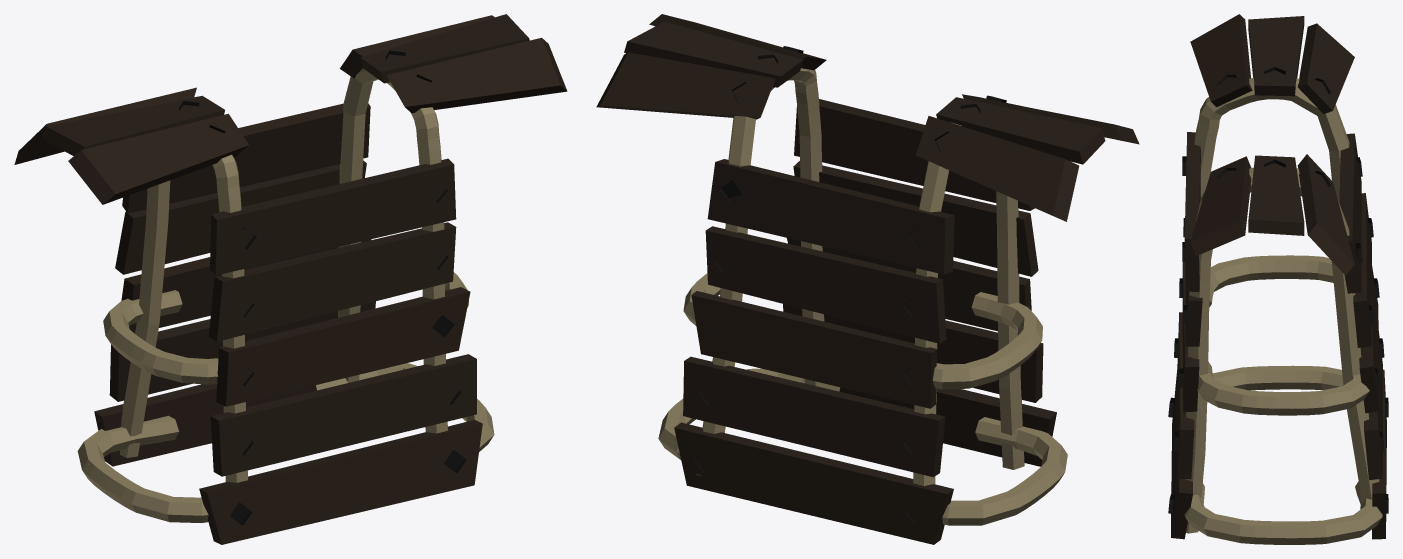
The model's file is WoodenArmor.fbx.
3 renders of one model, left to right at view 1: azimuth 30°, elevation 25°; view 2: azimuth 150°, elevation 25°; view 3: azimuth 270°, elevation 25°, orthographic. The views are drawn at different scales.
Parts seen in each view (by area): view 1: Armor; view 2: Armor; view 3: Armor.
Part boxes in pixels (x1,y1,x2,y2): Armor: (14, 14, 567, 544); Armor: (596, 14, 1139, 544); Armor: (1168, 14, 1388, 544).
Bounding box in the file's own units: 1.3 × 1.03 × 0.559.
